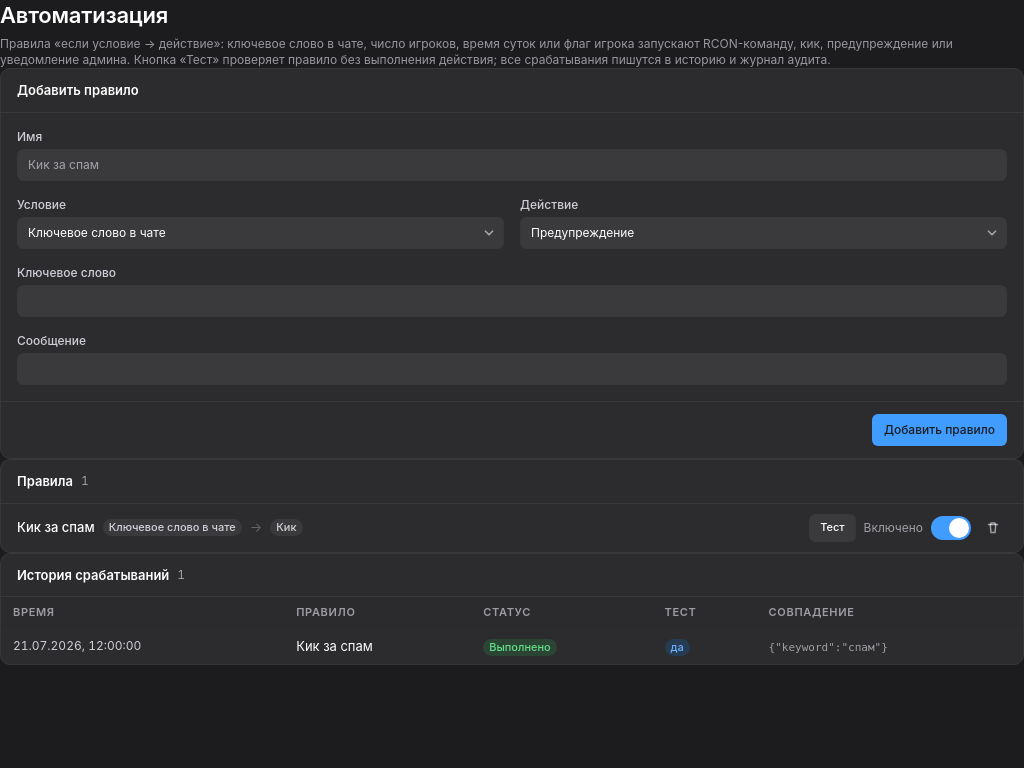
Scenario: AutomationPage › keeps the rule when the delete confirmation is cancelled
Click the button named "Удалить правило Кик за спам".
click(993, 528)  # box top-left (979, 514), bottom-right (1007, 542)
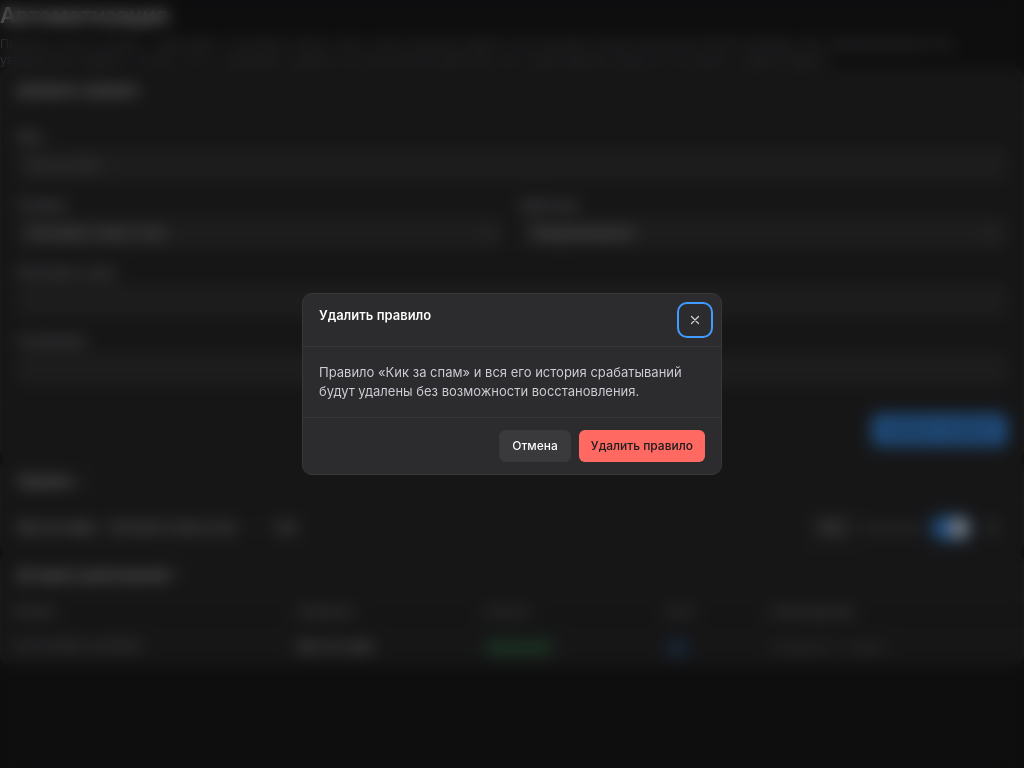
«Отмена» носят и крестик окна, и кнопка подвала — нужна вторая.
Click the button "Отмена".
click(535, 446)  # box top-left (499, 430), bottom-right (571, 462)
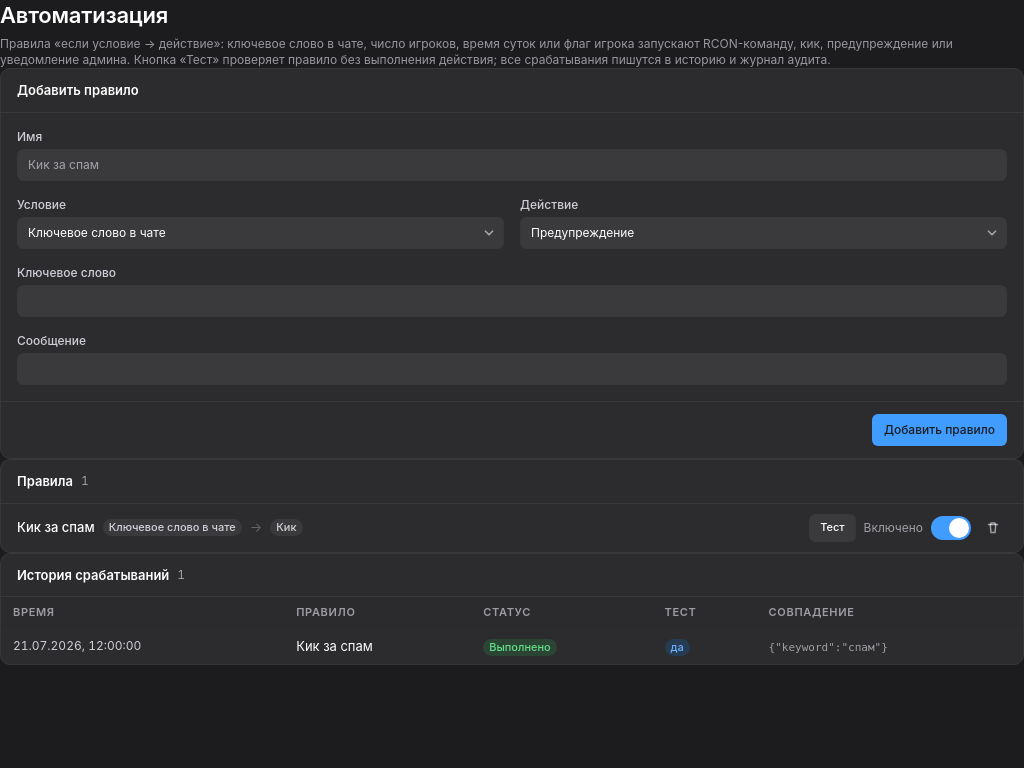
Check: the dialog is gone
